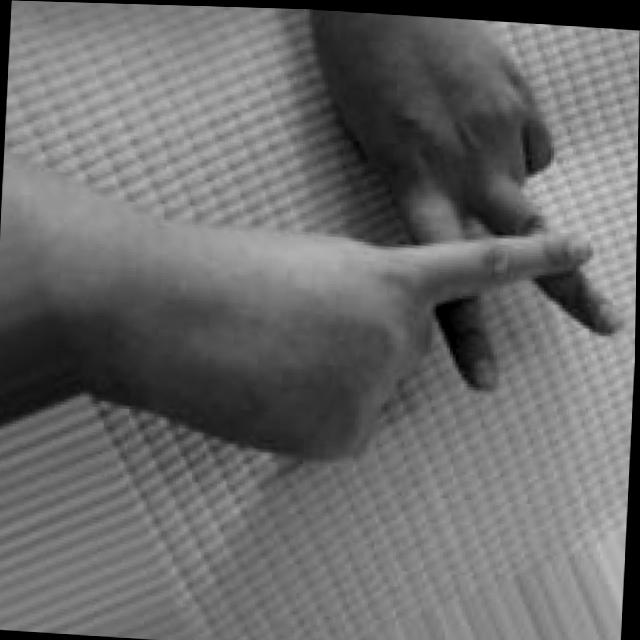A: (123, 4, 640, 478)
